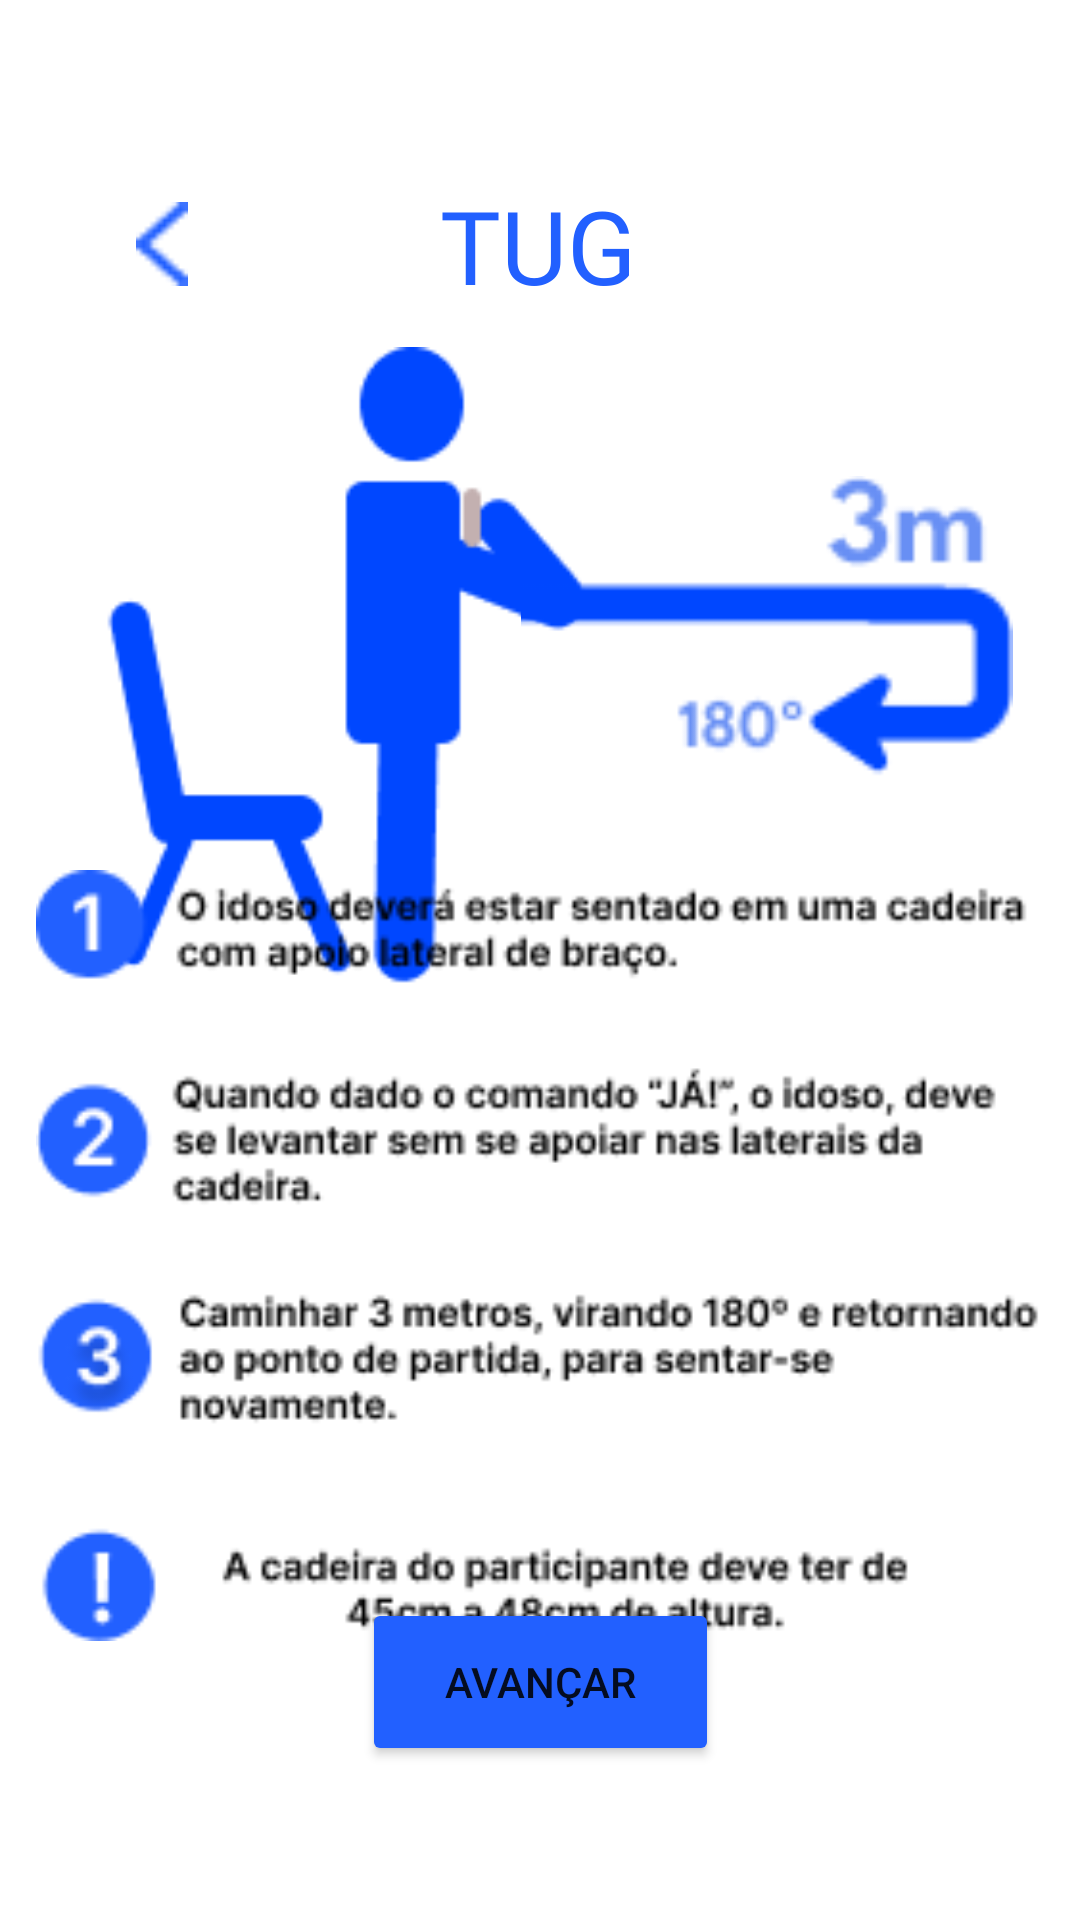

Icons on this 1080w x 1920h Android screen, each with its box as (x1, y1, x2, y2):
arrow: (136, 202, 188, 286)
